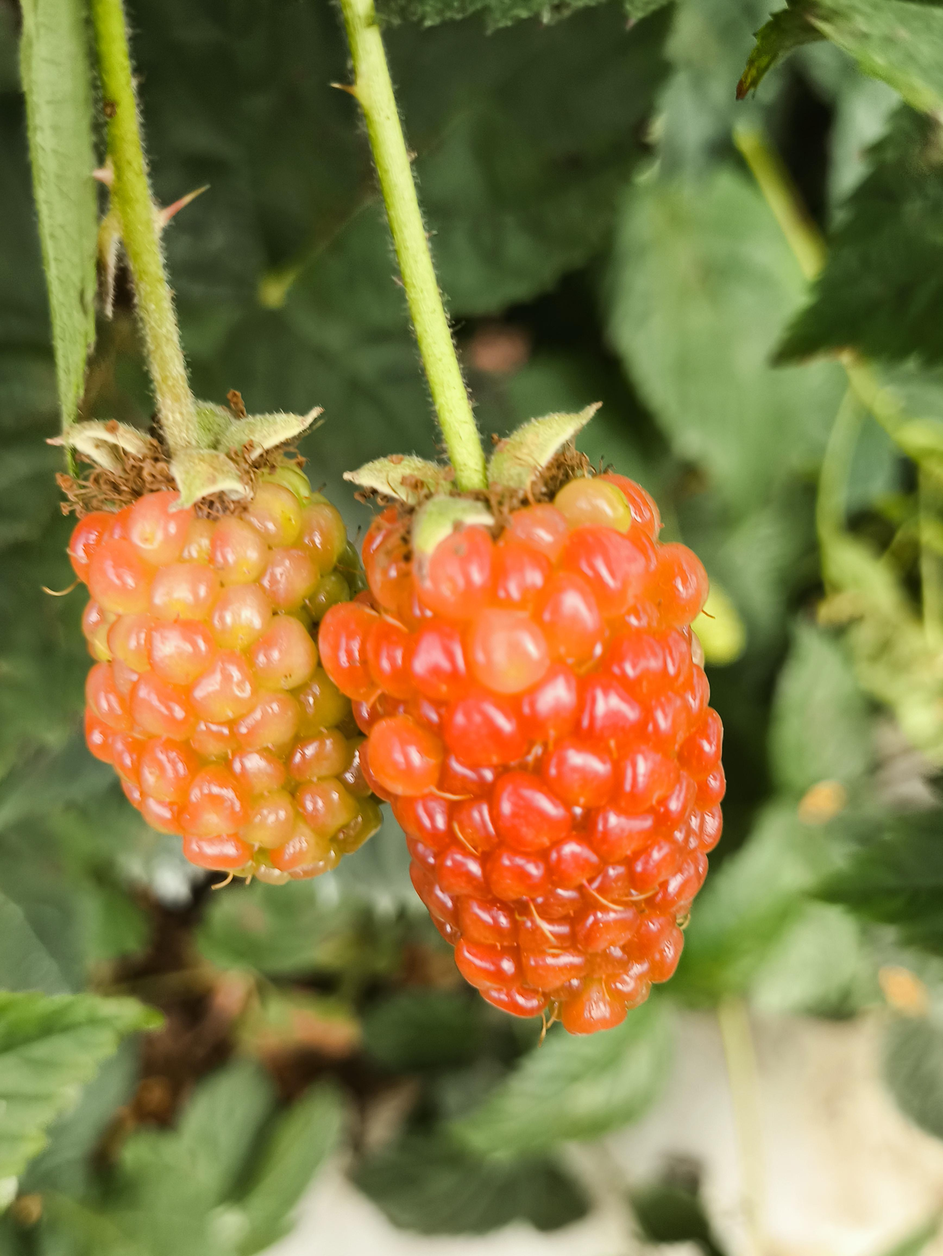naranja: (338, 451, 706, 1024), (67, 445, 398, 894)
